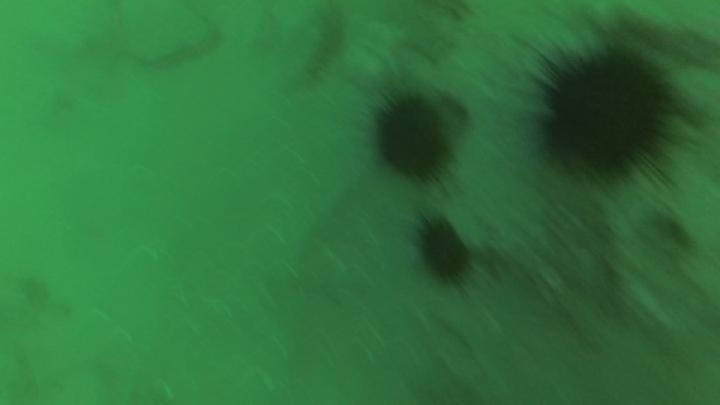echinus: (527, 38, 687, 186), (367, 89, 455, 185), (411, 212, 477, 288)
holothurian: (299, 5, 349, 86)
